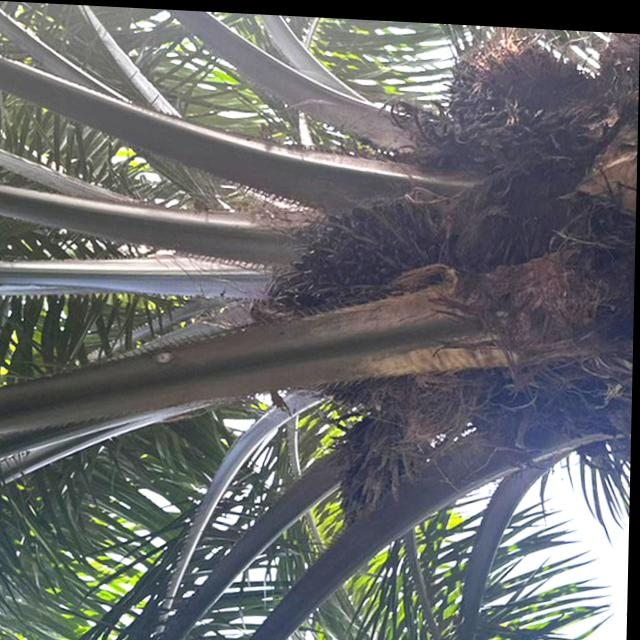ripe: (243, 167, 454, 408)
